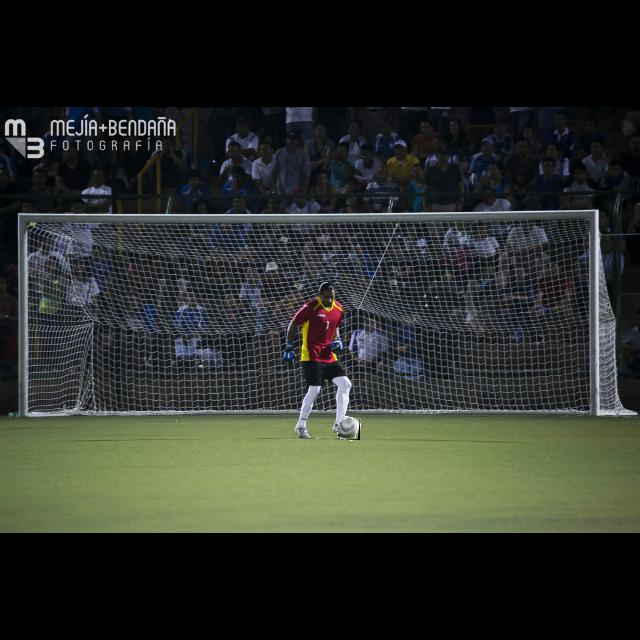Football: (338, 418, 360, 440)
